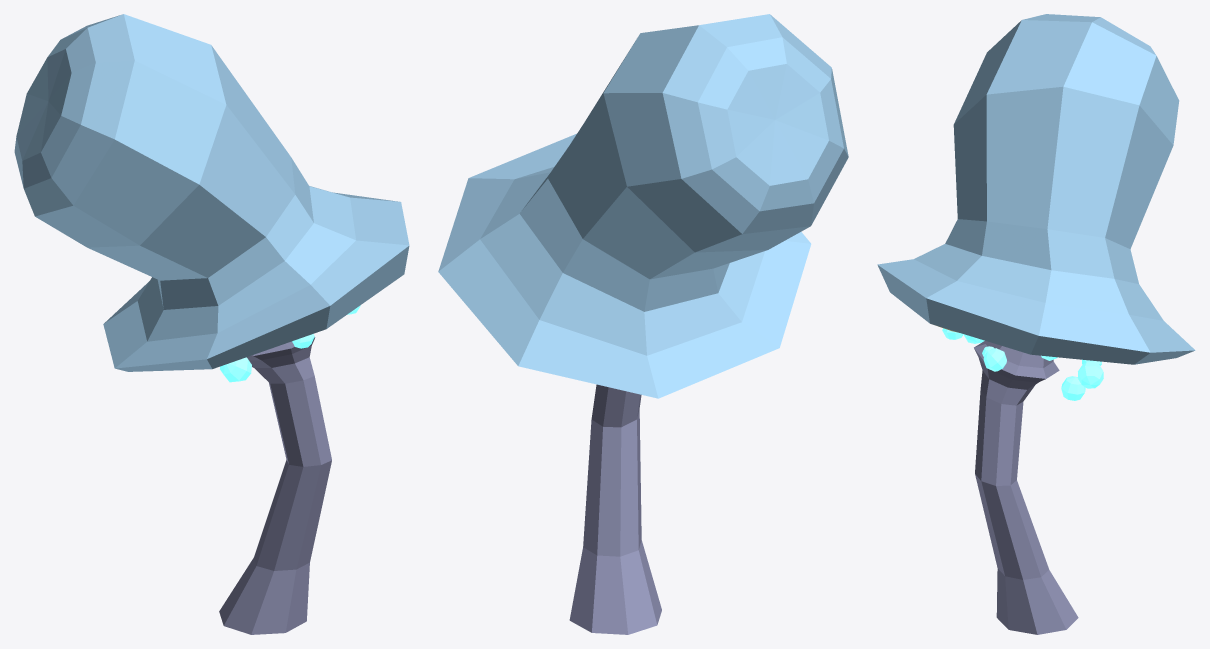
Rendered from Tree_09_Var_04.fbx.
3 views of the same model, side by side, from view 1: azimuth 30°, elevation 25°; view 2: azimuth 150°, elevation 25°; view 3: azimuth 270°, elevation 25° (orthographic). The views are drawn at different scales.
Visible parts, largest first — view 1: Tree_09_Var_04; view 2: Tree_09_Var_04; view 3: Tree_09_Var_04.
Part boxes in pixels (left/top/right/bottom): Tree_09_Var_04: left=14, top=14, right=409, bottom=634; Tree_09_Var_04: left=438, top=14, right=848, bottom=634; Tree_09_Var_04: left=877, top=14, right=1195, bottom=634.
Bounding box in the file's own units: 1.78 × 3.37 × 2.05.
